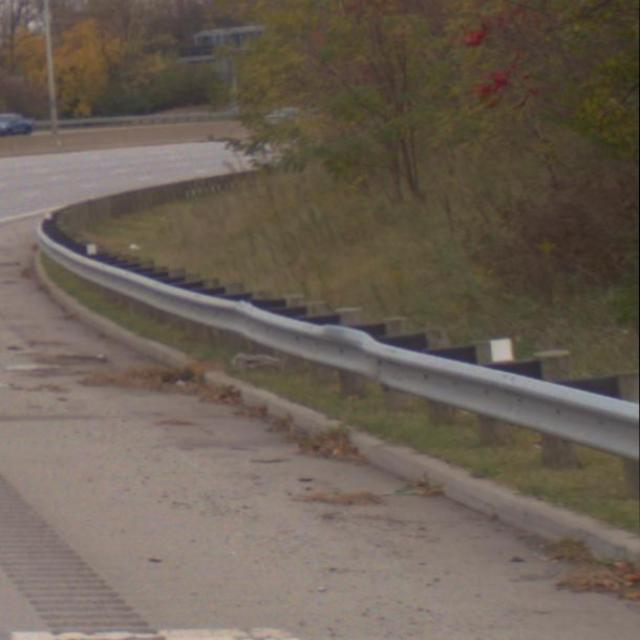Guard rail: (34, 219, 640, 492)
